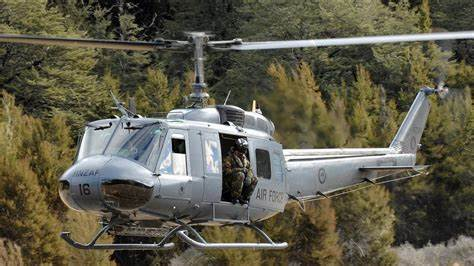Aeronef_militaire: (2, 25, 474, 256)
